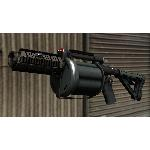Senapan: (5, 44, 149, 110)
